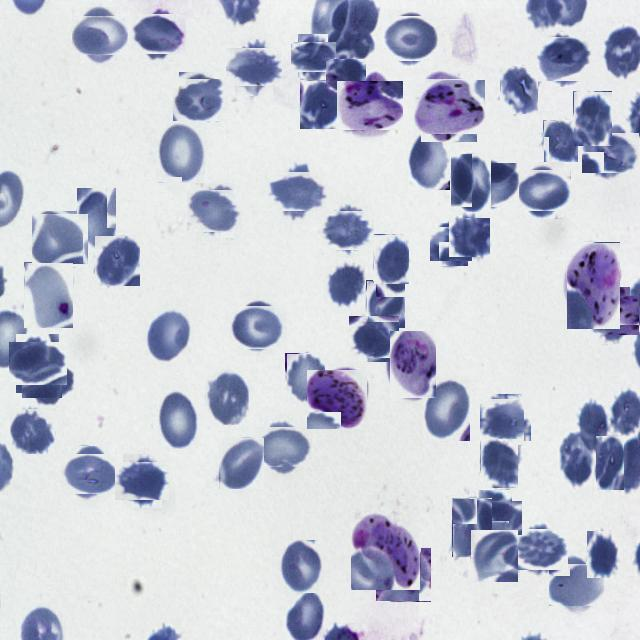difficult: (352, 510, 422, 590), (566, 242, 620, 329)
gametocyte: (307, 369, 367, 429)
red blood cell: (24, 262, 73, 328), (155, 120, 205, 183), (424, 379, 472, 441), (377, 547, 431, 602), (34, 212, 88, 266), (144, 307, 191, 363), (12, 338, 63, 389), (76, 187, 116, 251), (233, 302, 284, 352), (385, 14, 436, 64), (408, 130, 450, 190), (156, 389, 198, 449), (258, 422, 308, 472), (518, 166, 568, 216), (539, 34, 589, 84), (469, 532, 519, 582), (205, 370, 249, 426), (450, 153, 491, 212), (552, 560, 601, 609), (176, 75, 225, 124), (586, 128, 635, 177), (190, 186, 239, 235), (218, 437, 264, 489), (278, 539, 322, 593), (452, 498, 492, 557), (274, 167, 322, 216), (94, 235, 140, 286), (64, 450, 112, 498), (134, 10, 182, 58), (586, 292, 634, 340), (76, 11, 124, 59), (468, 162, 516, 210), (516, 526, 564, 574), (230, 44, 278, 92), (482, 396, 529, 443), (119, 458, 166, 504), (573, 91, 612, 146), (325, 207, 371, 253), (352, 314, 398, 360), (9, 408, 55, 454), (299, 80, 342, 129), (472, 495, 517, 540), (26, 356, 70, 402), (286, 353, 326, 403), (326, 261, 365, 310), (480, 438, 518, 488), (366, 280, 405, 328), (500, 66, 538, 114), (559, 433, 592, 488), (578, 400, 610, 455), (374, 234, 409, 284), (449, 218, 490, 257), (586, 530, 618, 578), (432, 225, 471, 264), (596, 436, 624, 490), (543, 120, 578, 162), (294, 38, 332, 76), (327, 58, 365, 95)
trophozoite: (418, 74, 482, 138), (341, 76, 398, 134), (390, 331, 436, 398)
